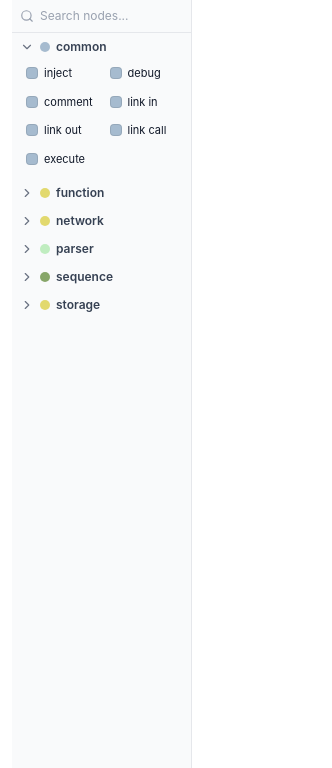
Test: Palette › search › filters nodes by name
The image size is (332, 768).
Type "inject" into the field with test id "palette-search" at (136, 16), box x1=40 y1=8 x2=232 y2=24
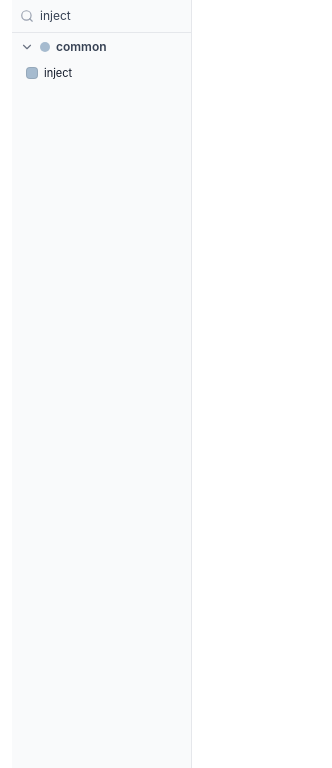
Check: the text "inject" is shown, box x1=44 y1=65 x2=72 y2=82
Check: the button "function" is gone
